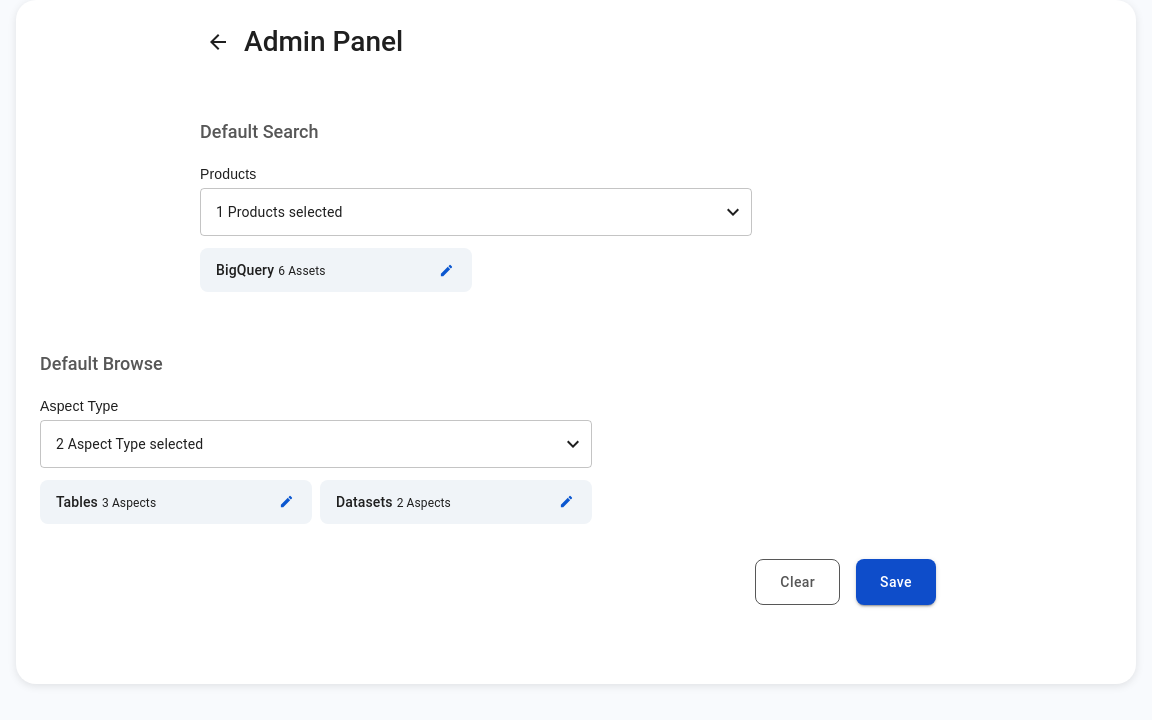
Test: AdminPanel › opens confirmation modal when save button is clicked
The image size is (1152, 720).
Click the button "Save".
click(896, 582)  # box x1=856 y1=559 x2=936 y2=605
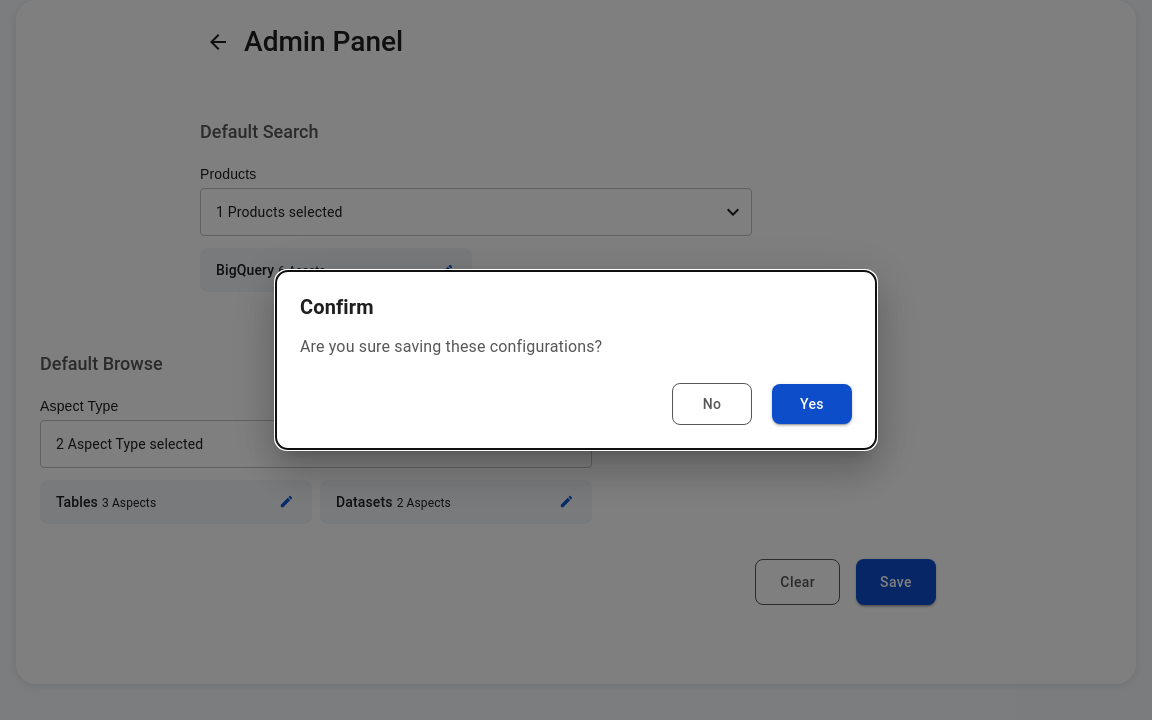
Result: the heading "Confirm" is shown at x1=300 y1=295 x2=374 y2=319
Result: the text "Are you sure saving these configurations?" is shown at x1=300 y1=337 x2=602 y2=356
Result: the button "No" is shown at x1=672 y1=383 x2=752 y2=425
